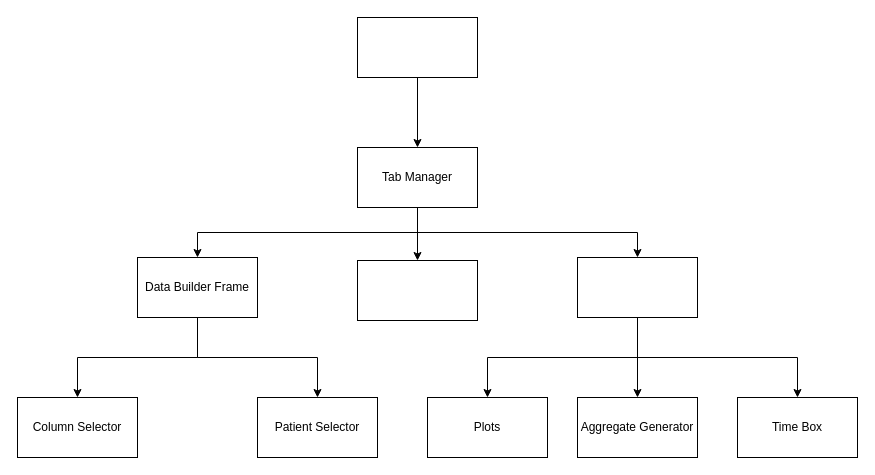
Some shapes in this 875 by 475 pixel diagram are drawn without their labels. Here are the shapes that lost their labels. From the top down, the centre of each, then its label:
[417,47]: Top-Level Window
[417,290]: Table Frame
[637,287]: Visualizer Frame
